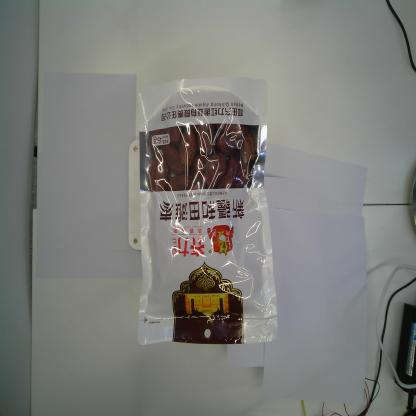Dried Food: (134, 74, 280, 351)
